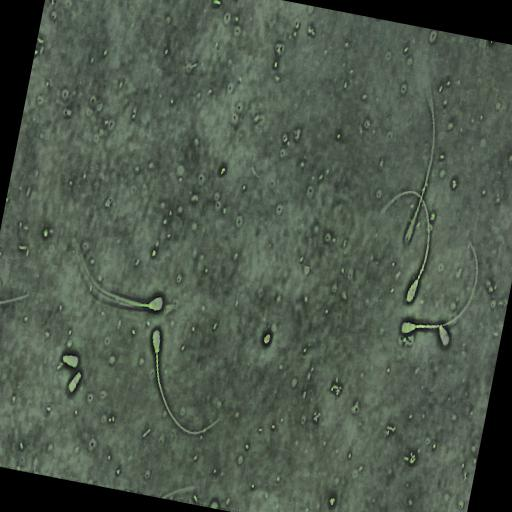dirt-particles: (262, 330, 273, 347)
loose-head: (67, 370, 82, 396), (437, 323, 452, 349), (61, 353, 80, 370)
normal: (148, 325, 225, 441), (398, 233, 482, 339), (70, 234, 167, 317), (377, 188, 433, 307)
